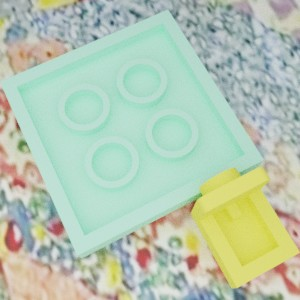lego: (0, 9, 263, 258), (190, 166, 300, 288)
